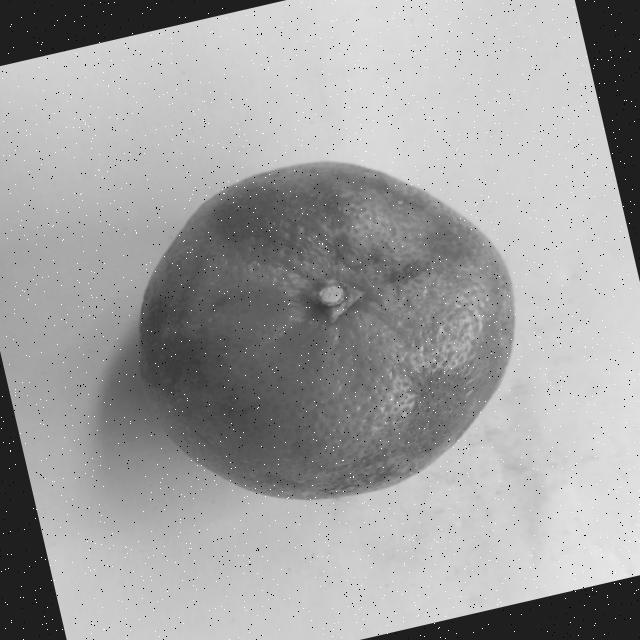overripe: (93, 114, 560, 542)
